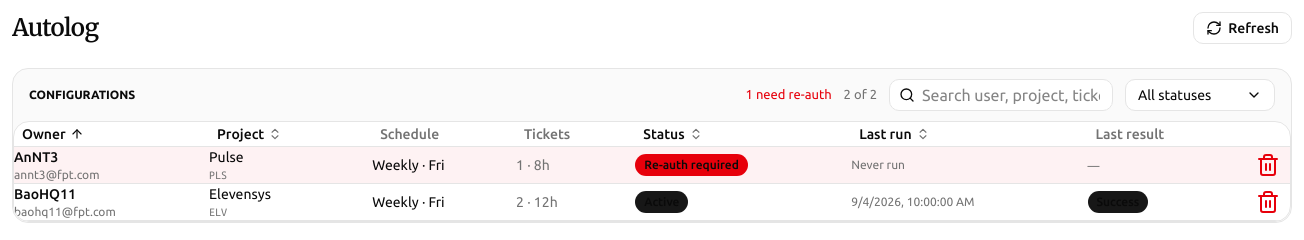
Test: AutologTable › filters rows by ticket key
In the field named "Search configurations": (1001, 95) [889,79,1113,111], type "PLS-9"
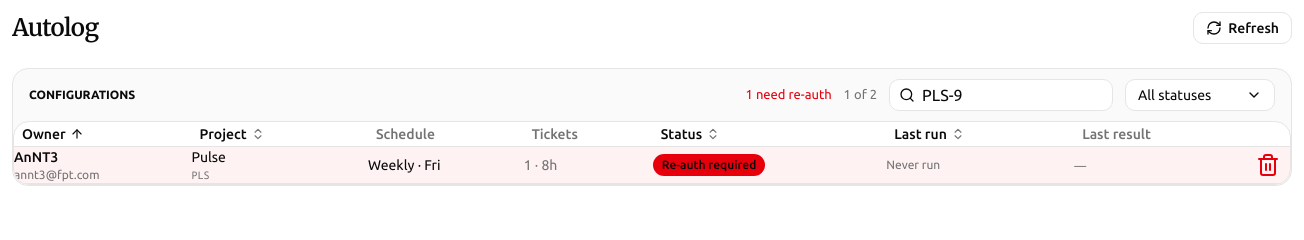
Expected: the text "AnNT3" is shown, [14,149,58,165]
Now the text "BaoHQ11" is gone
